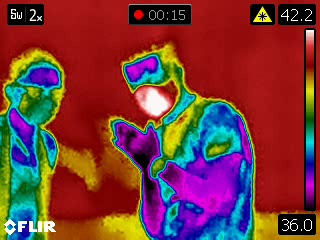human: (108, 39, 258, 240), (1, 48, 67, 240)
